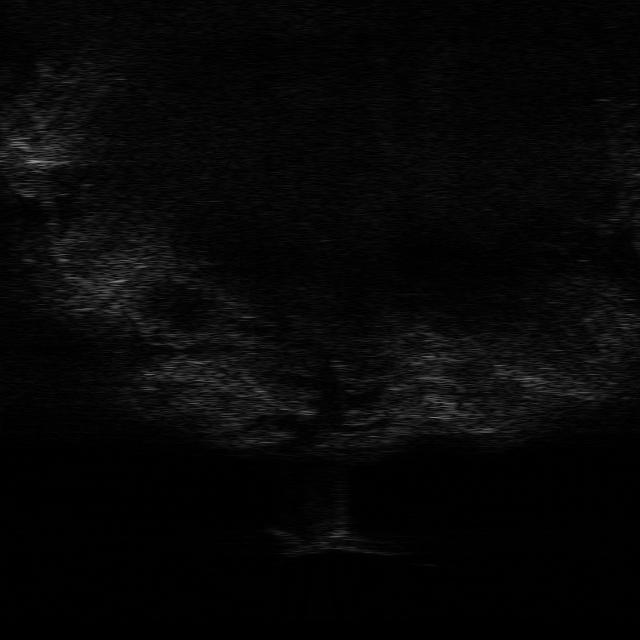plane: (266, 522, 396, 557)
